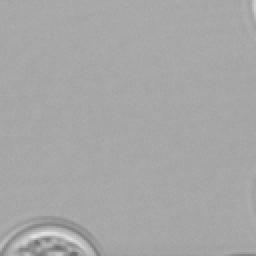picoshell: (0, 216, 98, 254)
